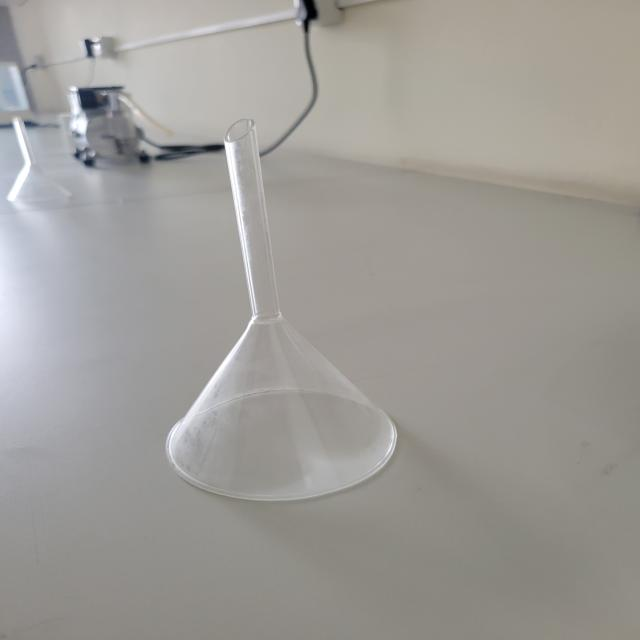Funnel: (123, 91, 436, 532)
